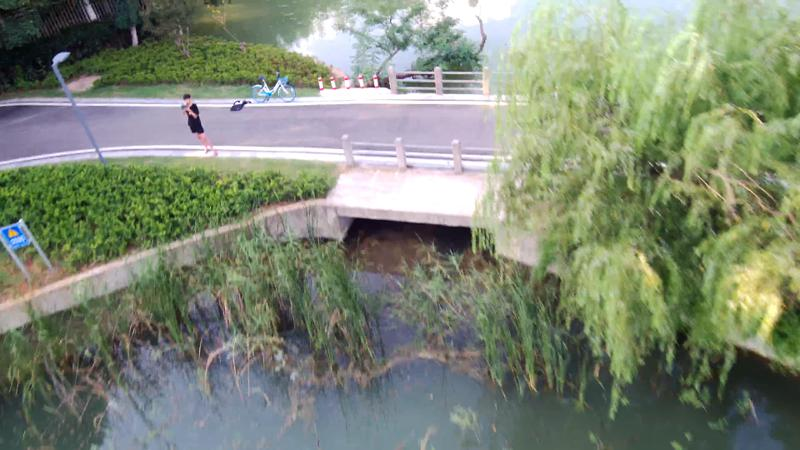passerby: (179, 92, 219, 159)
